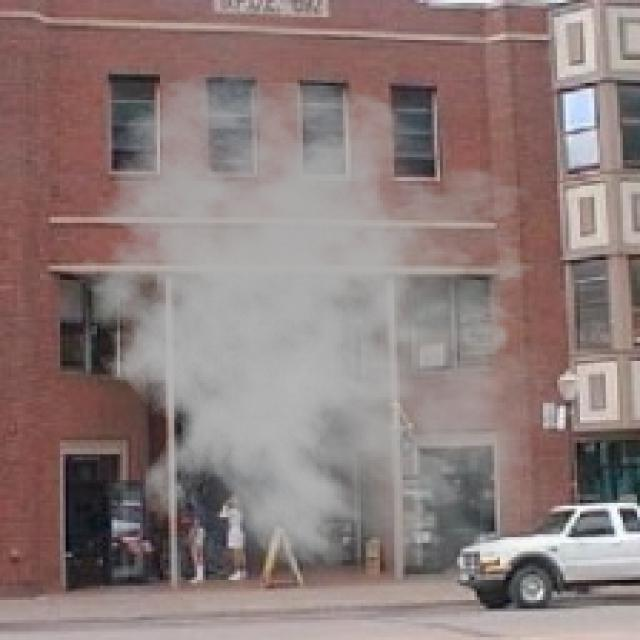smoke: (55, 71, 594, 614)
